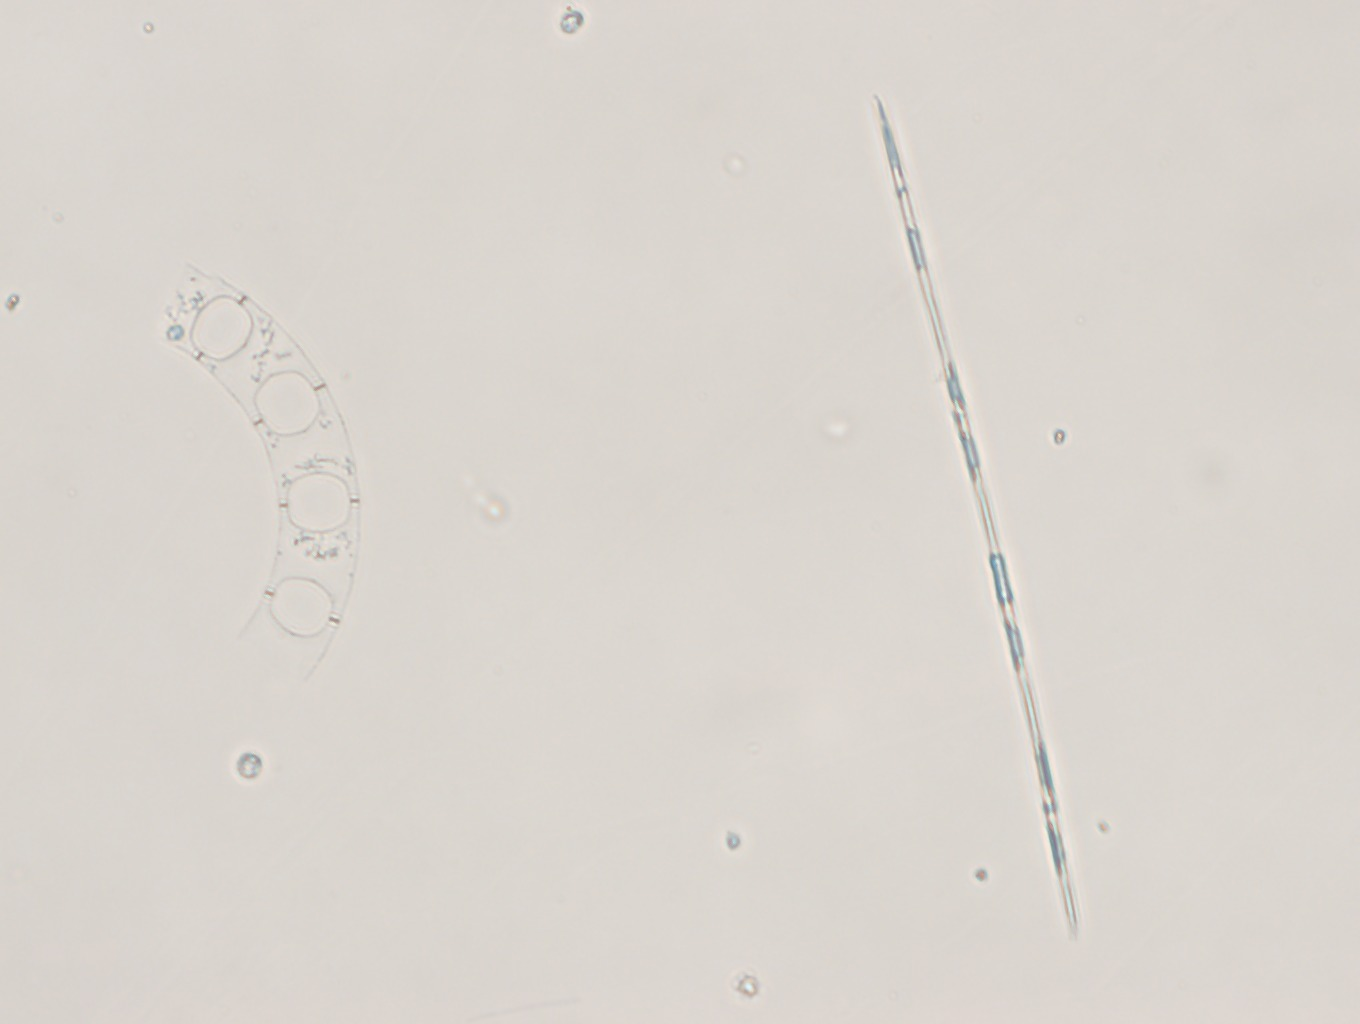eucampia: (156, 255, 364, 698)
